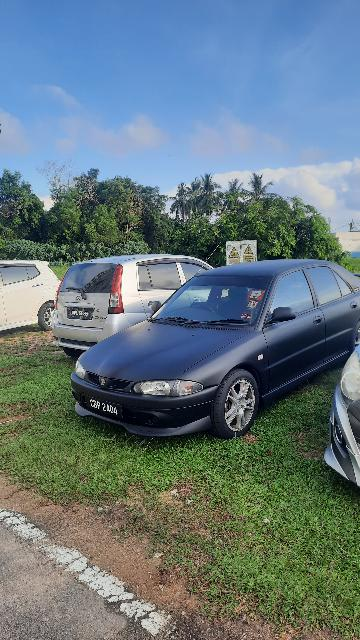License_Plate: (86, 395, 125, 422), (67, 307, 95, 322)
car: (72, 263, 357, 440), (48, 250, 218, 346)
